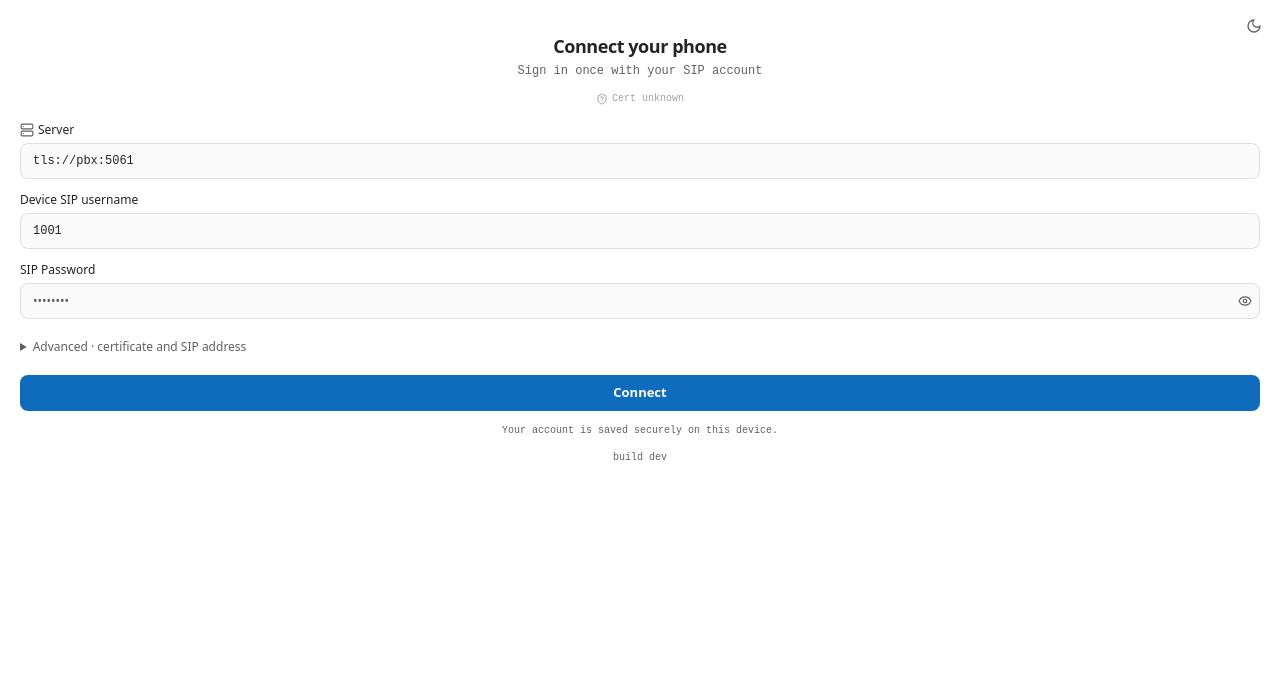
Scenario: ProvisioningView › blocks non-numeric extensions with guidance
The width and height of the screenshot is (1280, 695).
Fill the required password so native form validation lets submit through.
Type "pw123" into the password field named "SIP Password" at (640, 301), box top-left (20, 283), bottom-right (1260, 319)
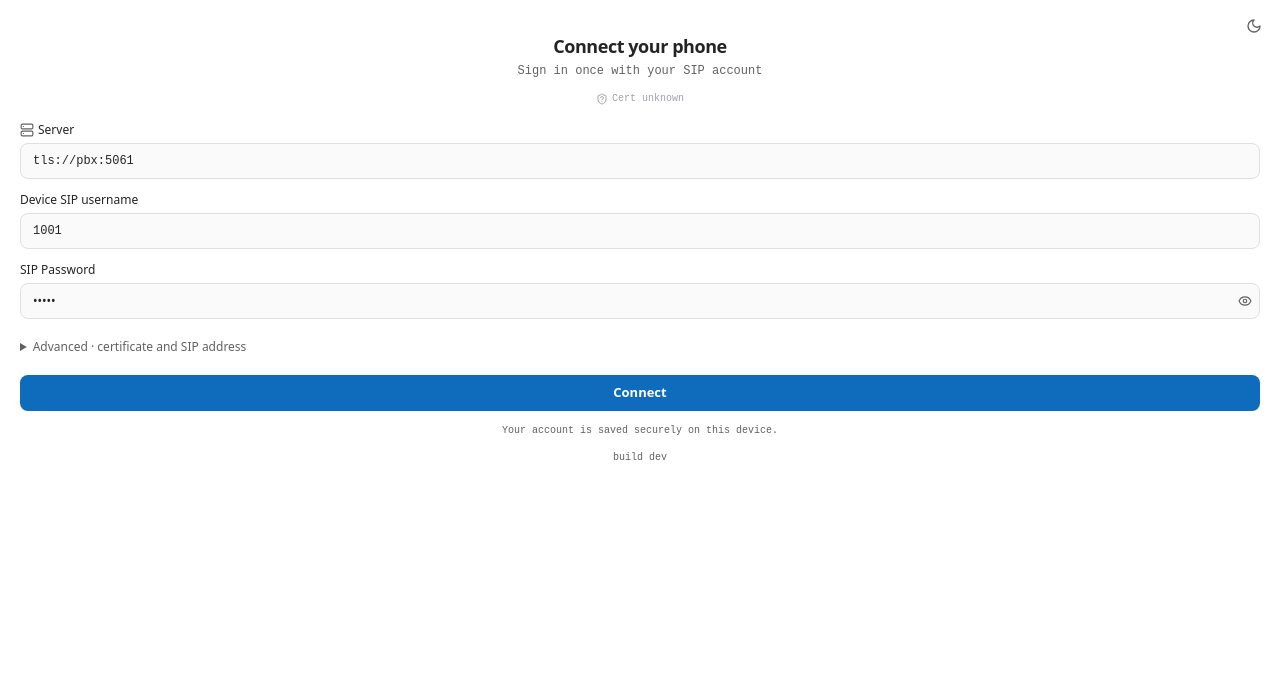
Click the button "Connect" at (640, 393), box top-left (20, 375), bottom-right (1260, 410)
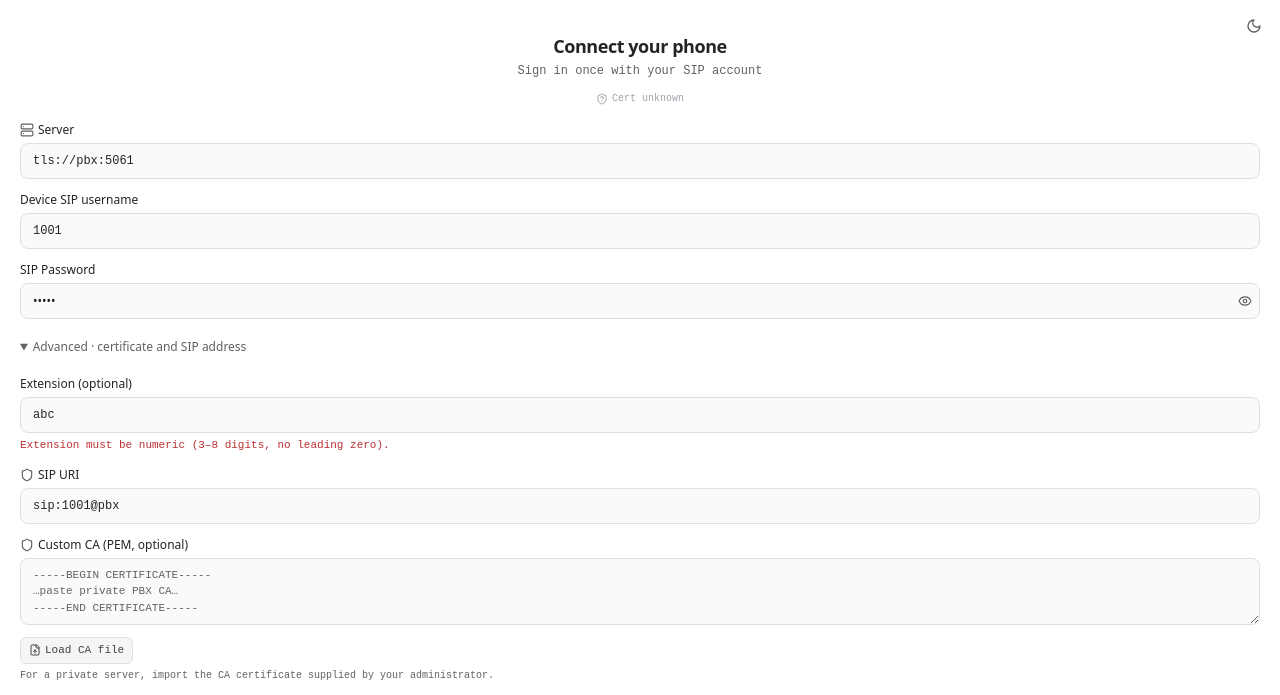
Expected: the message shows "numeric", top-left (20, 439), bottom-right (390, 451)
